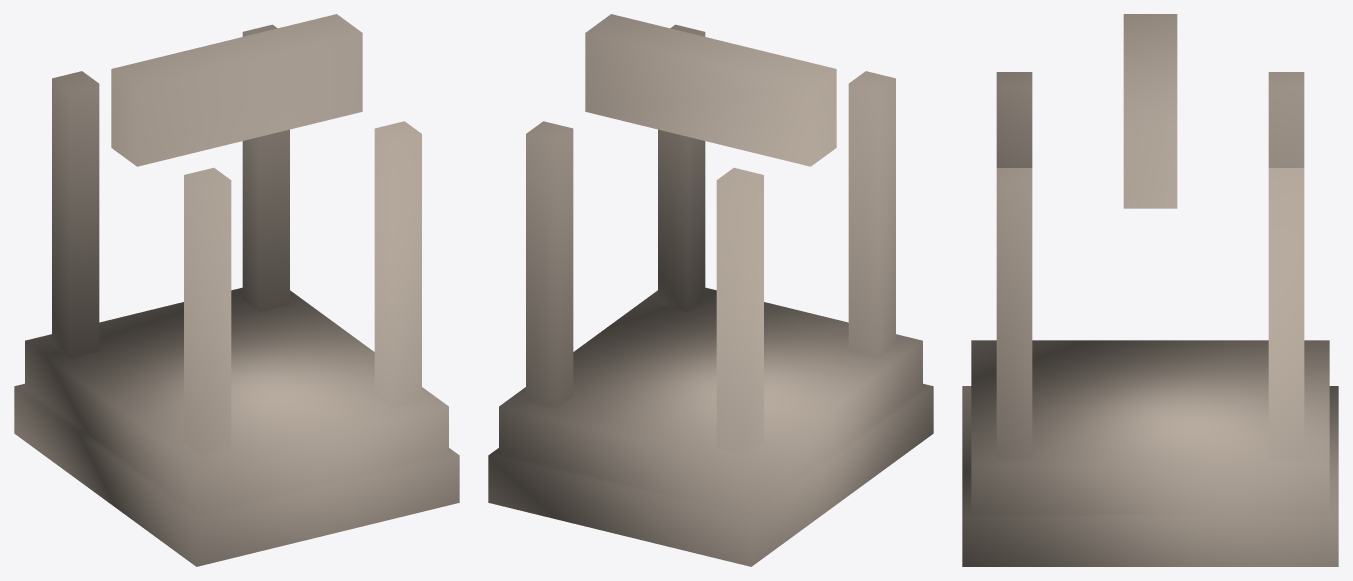
Rendered from amphitheater.obj.
3 views of the same model, side by side, from view 1: azimuth 30°, elevation 25°; view 2: azimuth 150°, elevation 25°; view 3: azimuth 270°, elevation 25° (orthographic). The views are drawn at different scales.
Visible parts, largest first — view 1: building; view 2: building; view 3: building.
Boxes of the visible parts, box(x1,y1,x2,y2) form: building: box(14, 14, 459, 566); building: box(488, 14, 933, 566); building: box(962, 14, 1338, 566).
Bounding box in the file's own units: 5.25 × 7.95 × 6.3.
